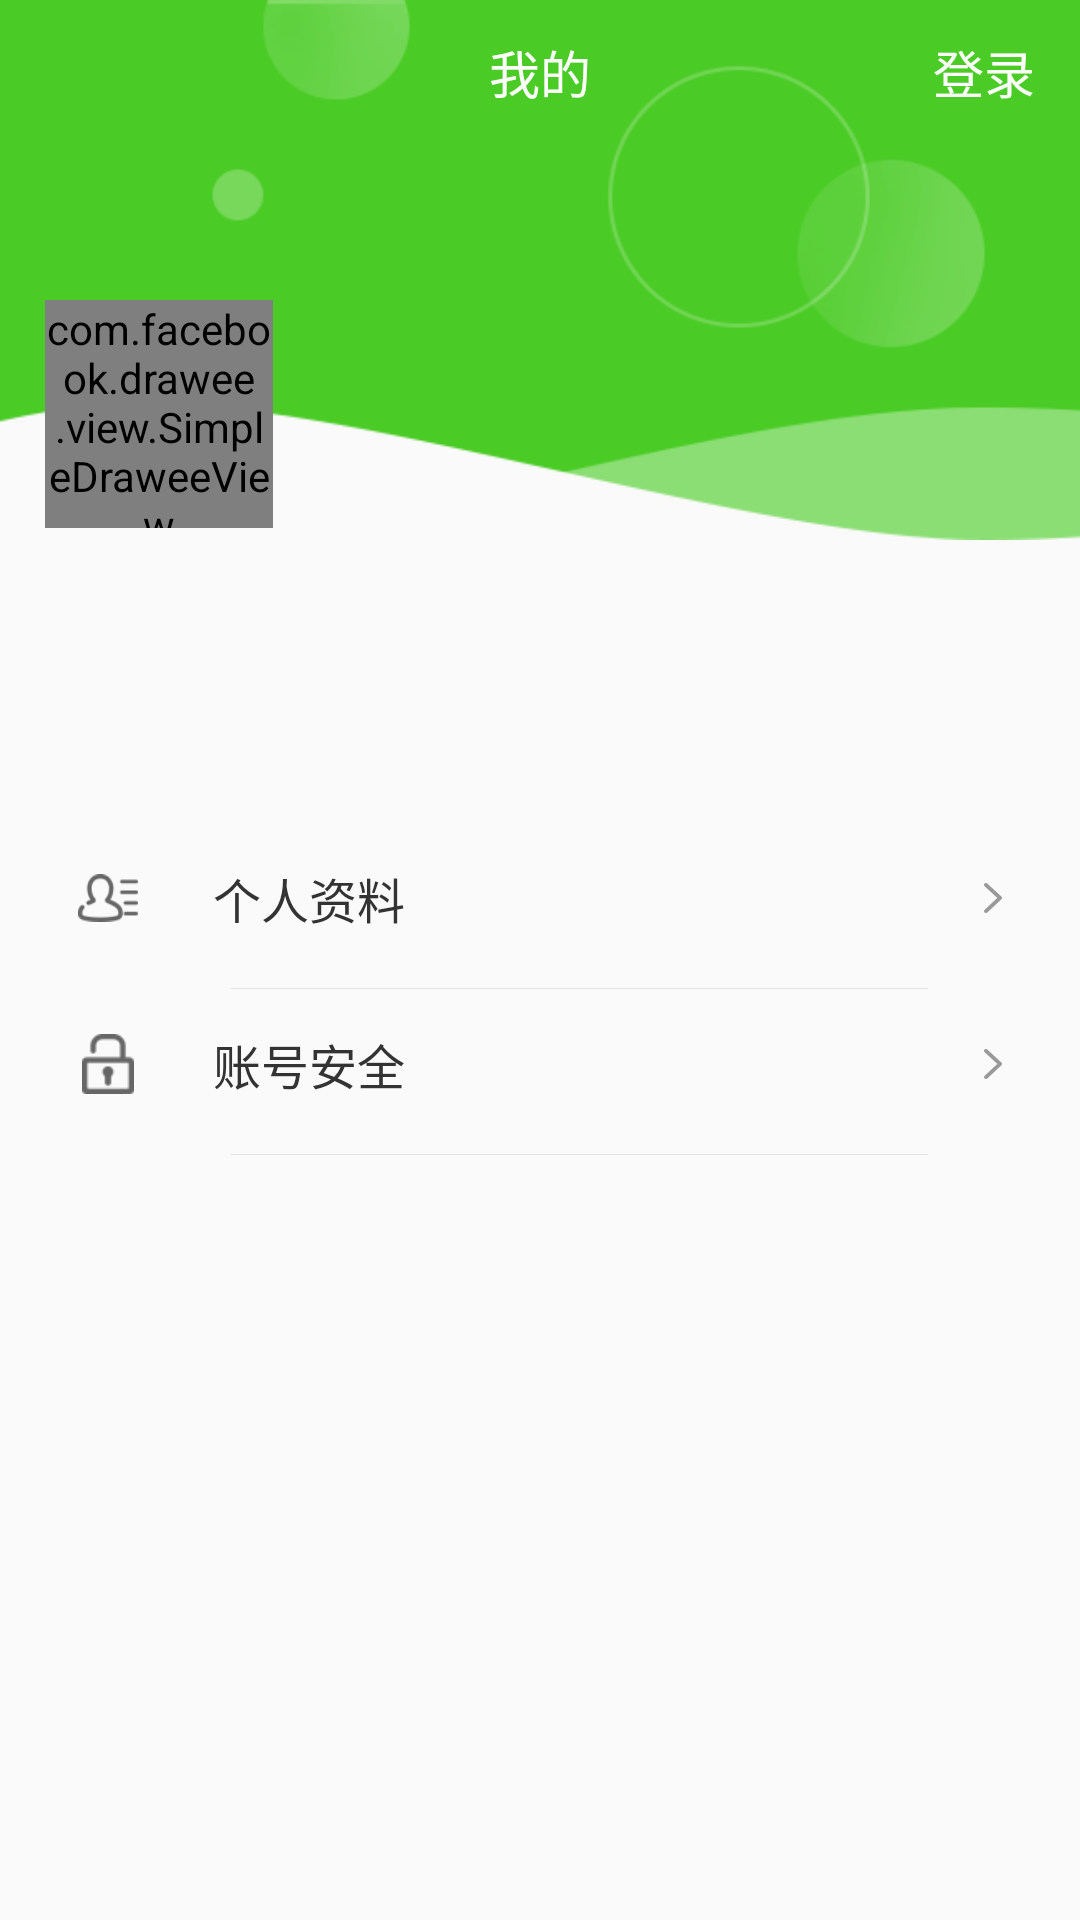

Point at icon controls on the screen. Image size 1080px×1920px, points as (x,y).
change password: (108,1064)
mine profile: (108,898)
